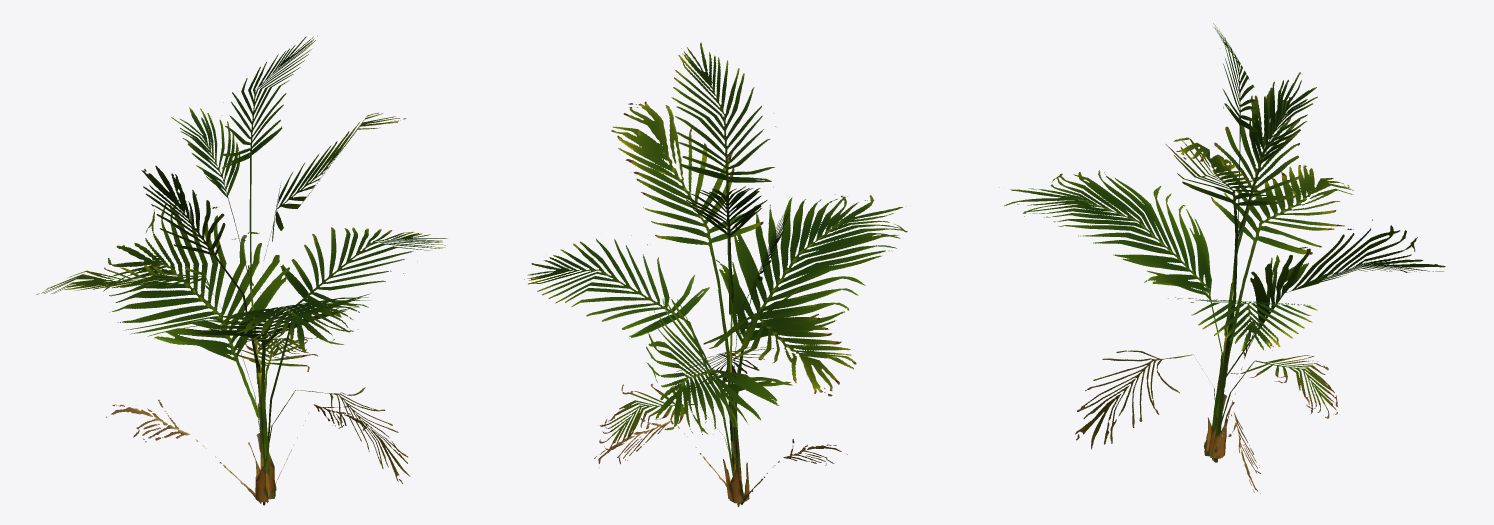
File: Q_Plant_Palm_1.fbx
3 views of the same model, side by side, from view 1: azimuth 30°, elevation 25°; view 2: azimuth 150°, elevation 25°; view 3: azimuth 270°, elevation 25° (orthographic).
Parts seen in each view (by area): view 1: _9862_Var1_LOD4; view 2: _9862_Var1_LOD4; view 3: _9862_Var1_LOD4.
Boxes of the visible parts, x1,y1,x2,y2 form: _9862_Var1_LOD4: (36, 36, 447, 505); _9862_Var1_LOD4: (524, 42, 907, 506); _9862_Var1_LOD4: (999, 23, 1445, 493).
Bounding box in the file's own units: 56.64 × 64.73 × 63.51.
Materials: 1 (1 with a texture image).
